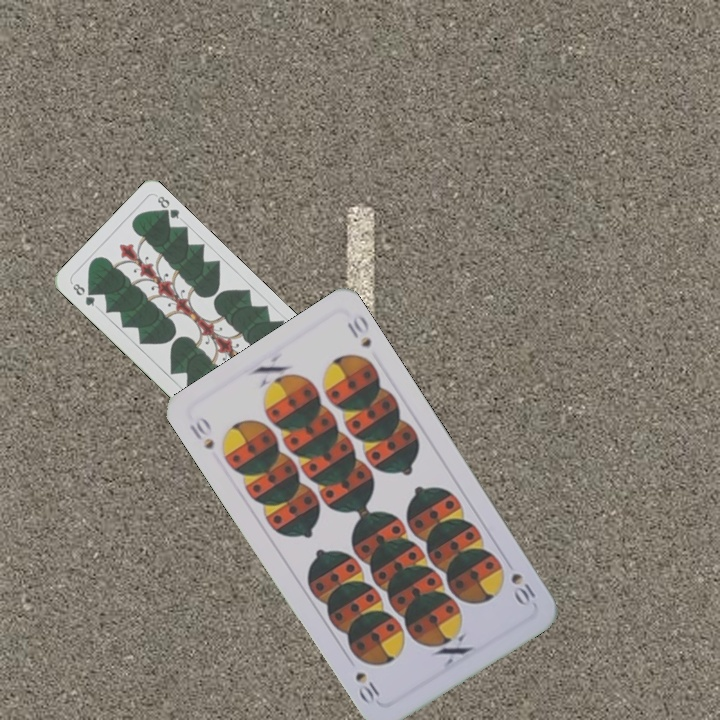G8: (68, 279, 98, 309)
S10: (506, 568, 538, 609), (185, 412, 217, 452)
